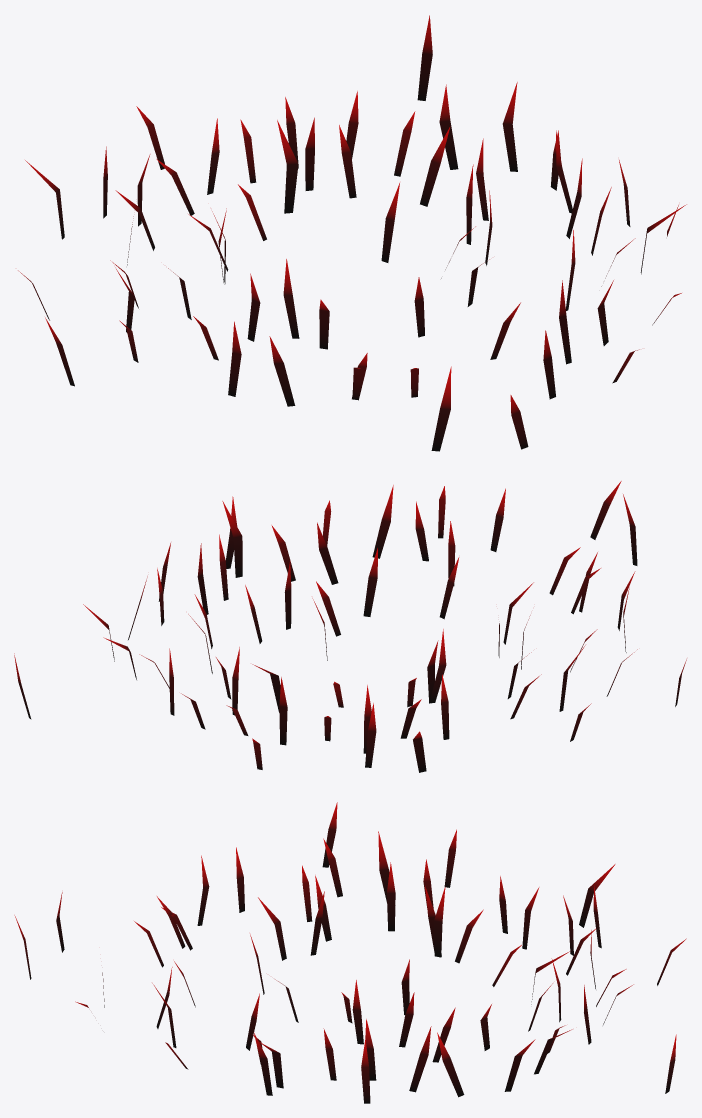
Rendered from PatchGrass04.fbx.
3 views of the same model, one above another, from view 1: azimuth 30°, elevation 25°; view 2: azimuth 150°, elevation 25°; view 3: azimuth 270°, elevation 25° (orthographic). The views are drawn at different scales.
Visible parts, largest first — view 1: PatchGrass04_LOD0; view 2: PatchGrass04_LOD0; view 3: PatchGrass04_LOD0.
Part boxes in pixels (x1,y1,x2,y2): PatchGrass04_LOD0: (18,15,686,451); PatchGrass04_LOD0: (14,481,686,772); PatchGrass04_LOD0: (14,802,686,1103).
Bounding box in the file's own units: 275 × 36.71 × 320.
